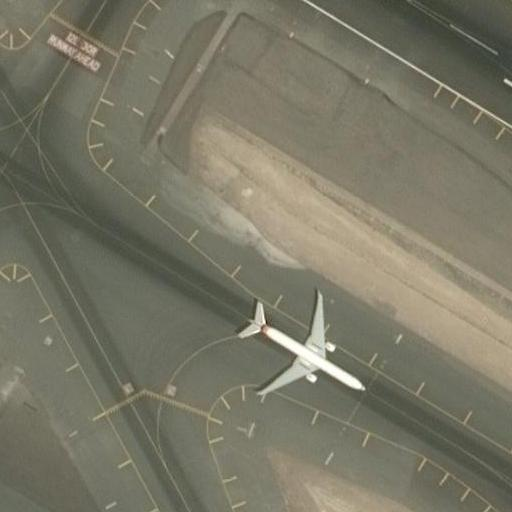Aircraft: (222, 290, 368, 405)
